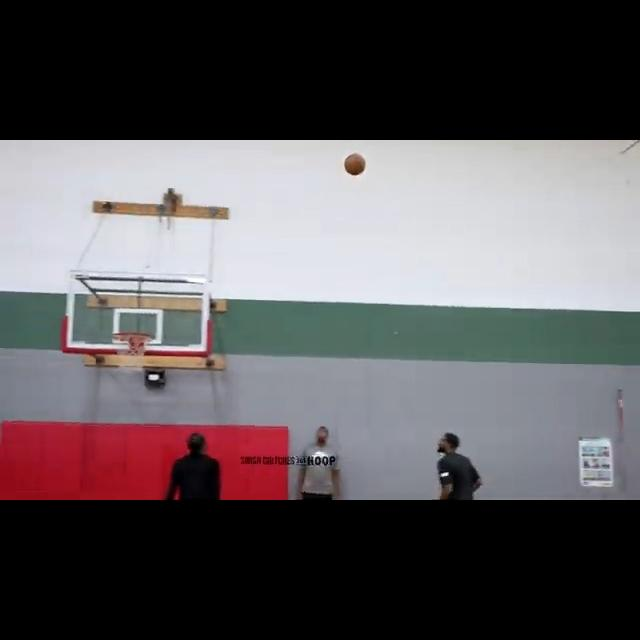basketball: (343, 153, 366, 177)
hoop: (112, 333, 154, 371)
